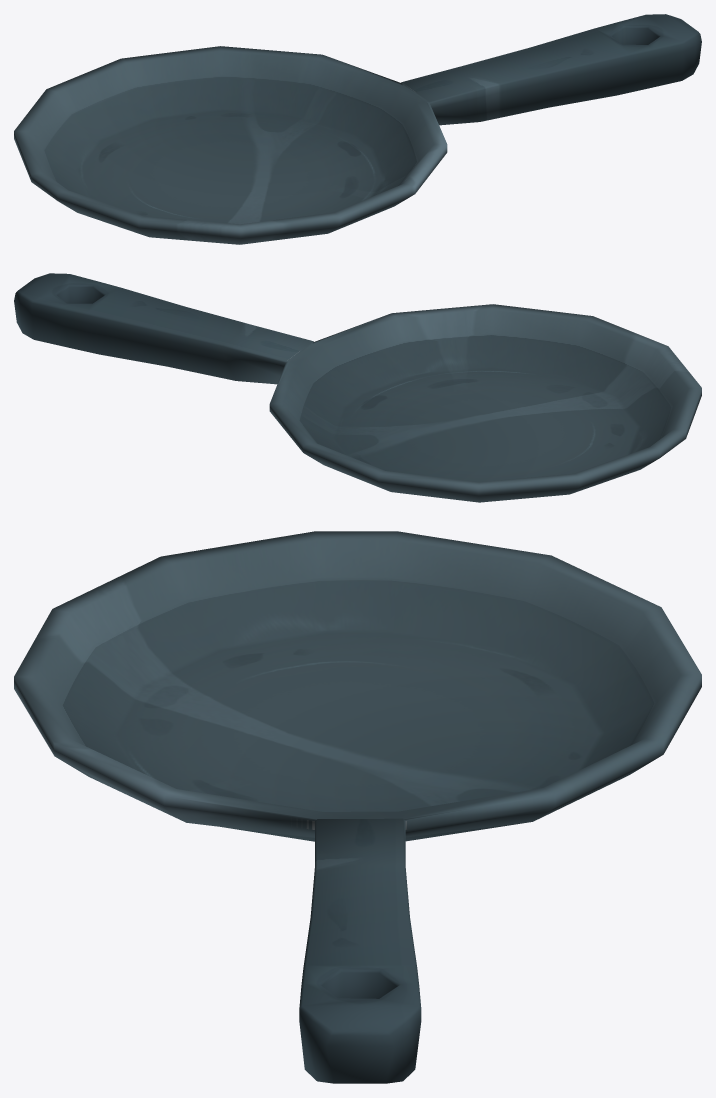
File: PanLarge.fbx
3 views of the same model, one above another, from view 1: azimuth 30°, elevation 25°; view 2: azimuth 150°, elevation 25°; view 3: azimuth 270°, elevation 25° (orthographic). The views are drawn at different scales.
Visible parts, largest first — view 1: PanLarge; view 2: PanLarge; view 3: PanLarge.
Part boxes in pixels (x1,y1,x2,y2): PanLarge: [14, 14, 701, 244]; PanLarge: [14, 273, 701, 502]; PanLarge: [14, 531, 701, 1083].
Bounding box in the file's own units: 111 × 7.29 × 64.55.
